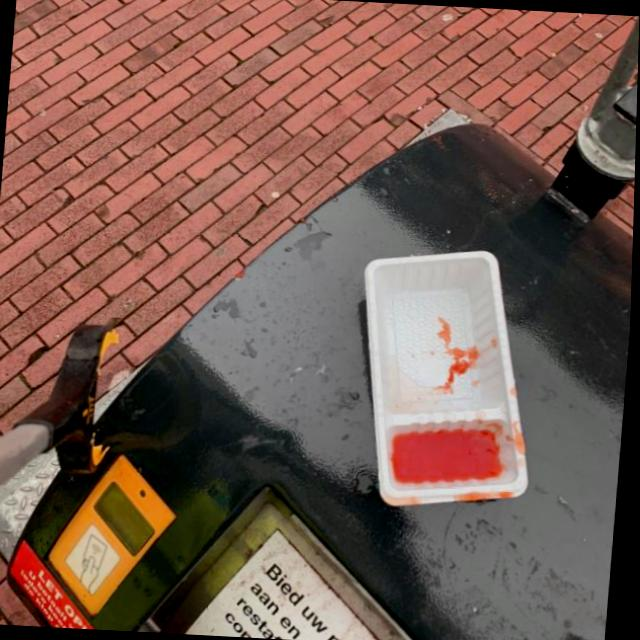Plastic: (345, 241, 552, 516)
